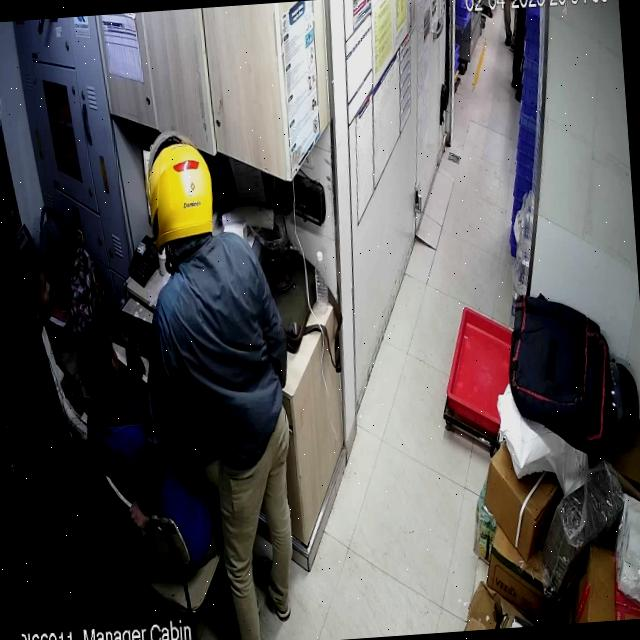helmet: (145, 129, 213, 252)
no_helmet: (75, 306, 120, 398)
